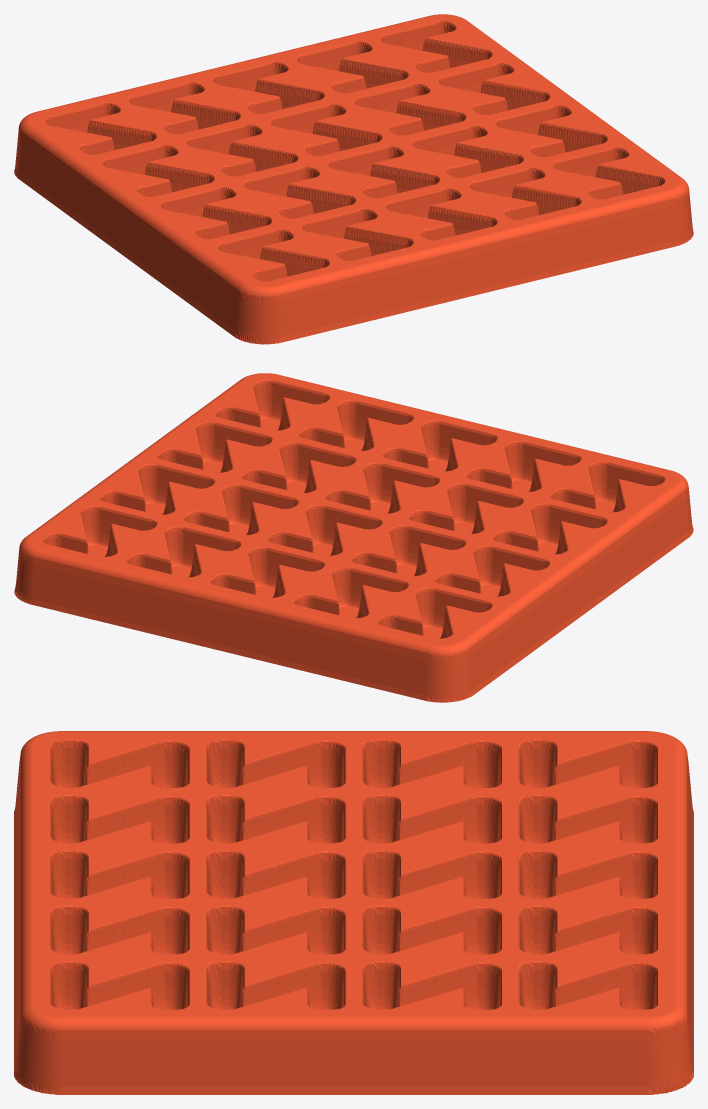
The model's file is mold.glb.
The picture shows the model from 3 angles, top to bottom: view 1: azimuth 30°, elevation 25°; view 2: azimuth 150°, elevation 25°; view 3: azimuth 270°, elevation 25°; orthographic projection. The views are drawn at different scales.
Visible parts, largest first — view 1: geometry_0; view 2: geometry_0; view 3: geometry_0.
Boxes of the visible parts, x1=… form: geometry_0: x1=14, y1=14, x2=693, y2=344; geometry_0: x1=14, y1=373, x2=693, y2=702; geometry_0: x1=14, y1=731, x2=693, y2=1094.
Bounding box in the file's own units: 0.1337 × 0.0145 × 0.1278.
